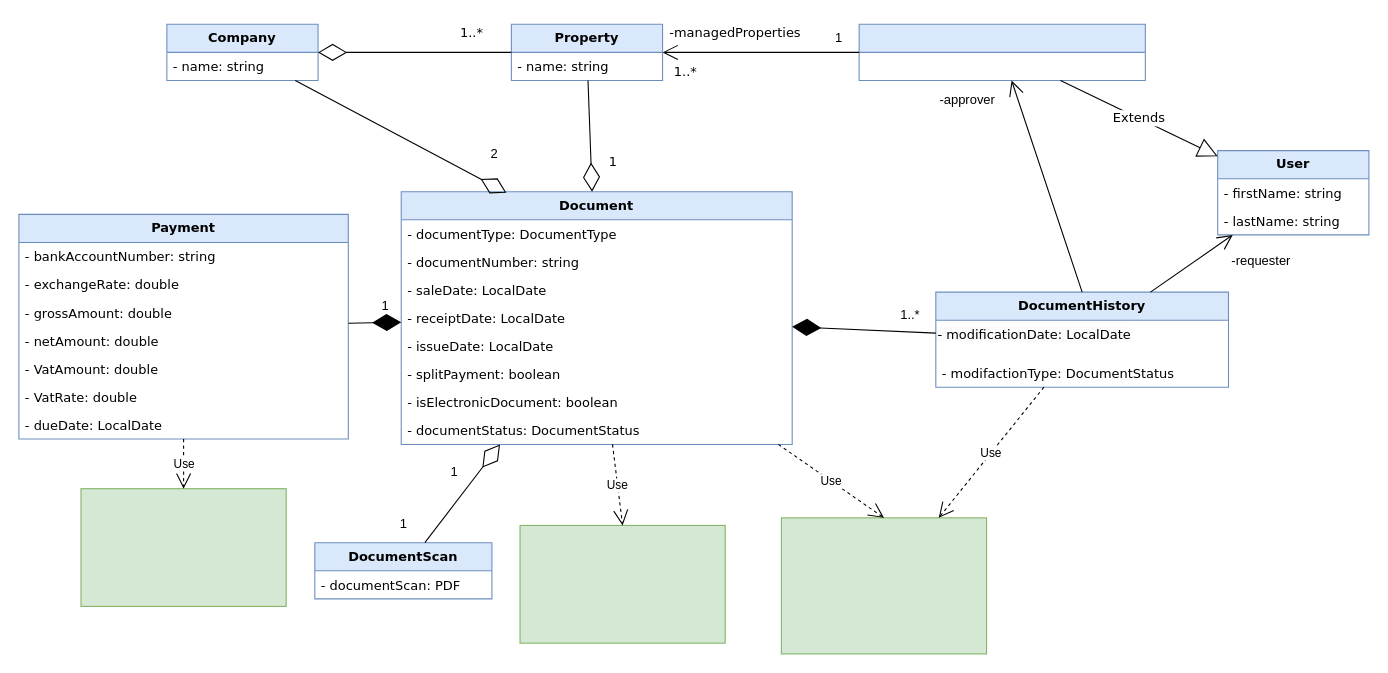
Some shapes in this 1388 by 673 pixel diagram are drawn without their labels. The shapes that lost their labels are listed below. From the top down, each one's centre as x and y in pixels, then its label:
(x=1001, y=51): PropertyManager
(x=183, y=547): <<Enumeration>> Currency PLN EUR CZK GBP
(x=622, y=583): <<Enumeration>> DocumentType INVOICE INTEREST_NOTE CORRECTIVE_INVOICE OTHER
(x=883, y=585): <<Enumeration>> DocumentStatus REJECTED ACCEPTED PENDING EDITED CANCELLED
